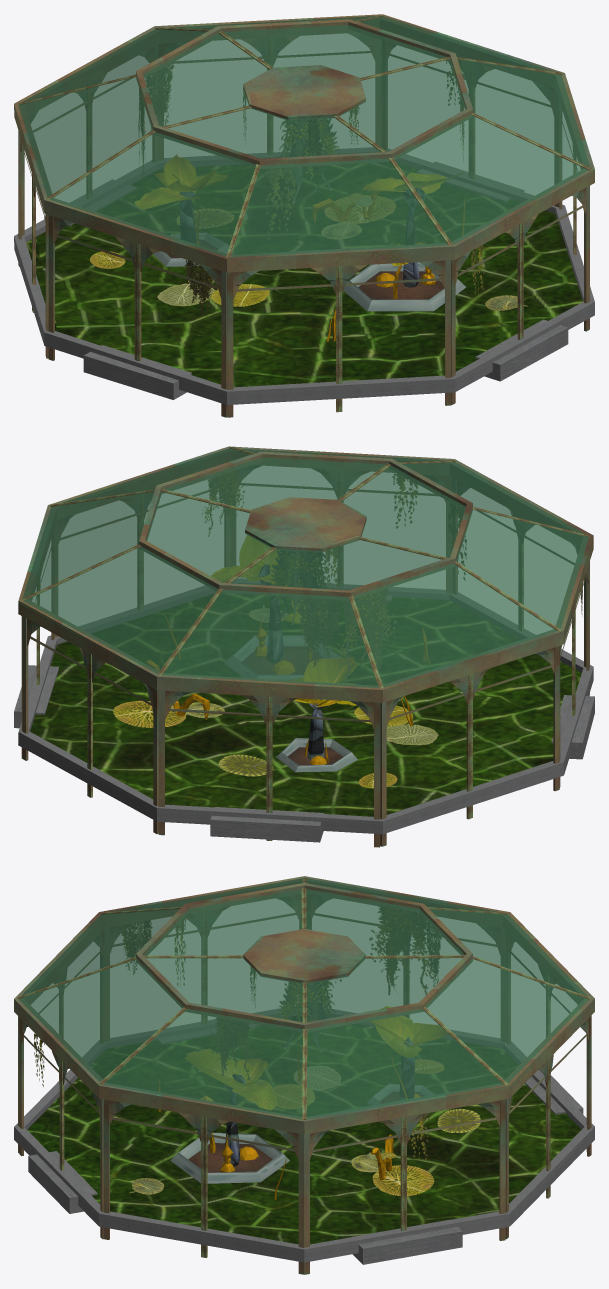
The model's file is Center.gltf.
3 renders of one model, top to bottom at view 1: azimuth 30°, elevation 25°; view 2: azimuth 150°, elevation 25°; view 3: azimuth 270°, elevation 25°, orthographic. The views are drawn at different scales.
Parts seen in each view (by area): view 1: Center; view 2: Center; view 3: Center.
Boxes of the visible parts, left/top/right/bottom form: Center: left=14, top=14, right=594, bottom=417; Center: left=14, top=446, right=594, bottom=847; Center: left=14, top=876, right=594, bottom=1274.
Bounding box in the file's own units: 23.41 × 8.9 × 23.41.
Materials: 74 (73 with a texture image).
